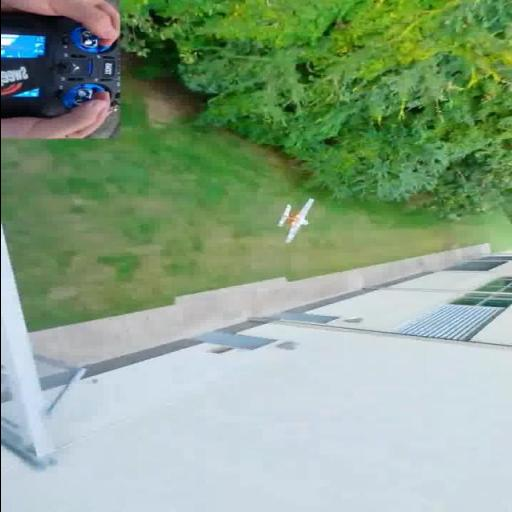uav: (263, 195, 325, 247)
